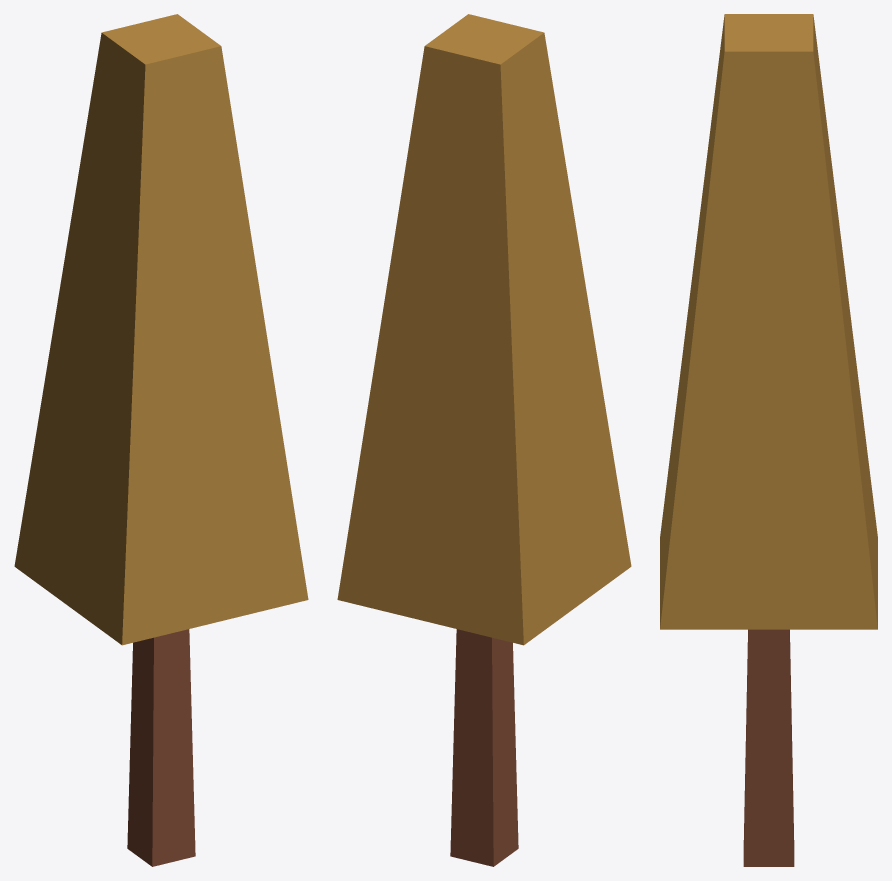
Rendered from Tree_26_autumn_mat.fbx.
The picture shows the model from 3 angles, left to right: view 1: azimuth 30°, elevation 25°; view 2: azimuth 150°, elevation 25°; view 3: azimuth 270°, elevation 25°; orthographic projection.
Visible parts, largest first — view 1: Tree_26_autumn_mat; view 2: Tree_26_autumn_mat; view 3: Tree_26_autumn_mat.
Boxes of the visible parts, <box> form: Tree_26_autumn_mat: <box>14,14,308,866</box>; Tree_26_autumn_mat: <box>337,14,631,866</box>; Tree_26_autumn_mat: <box>660,14,877,866</box>.
Size of the model in its own units: 2.53 by 10.54 by 2.53.
